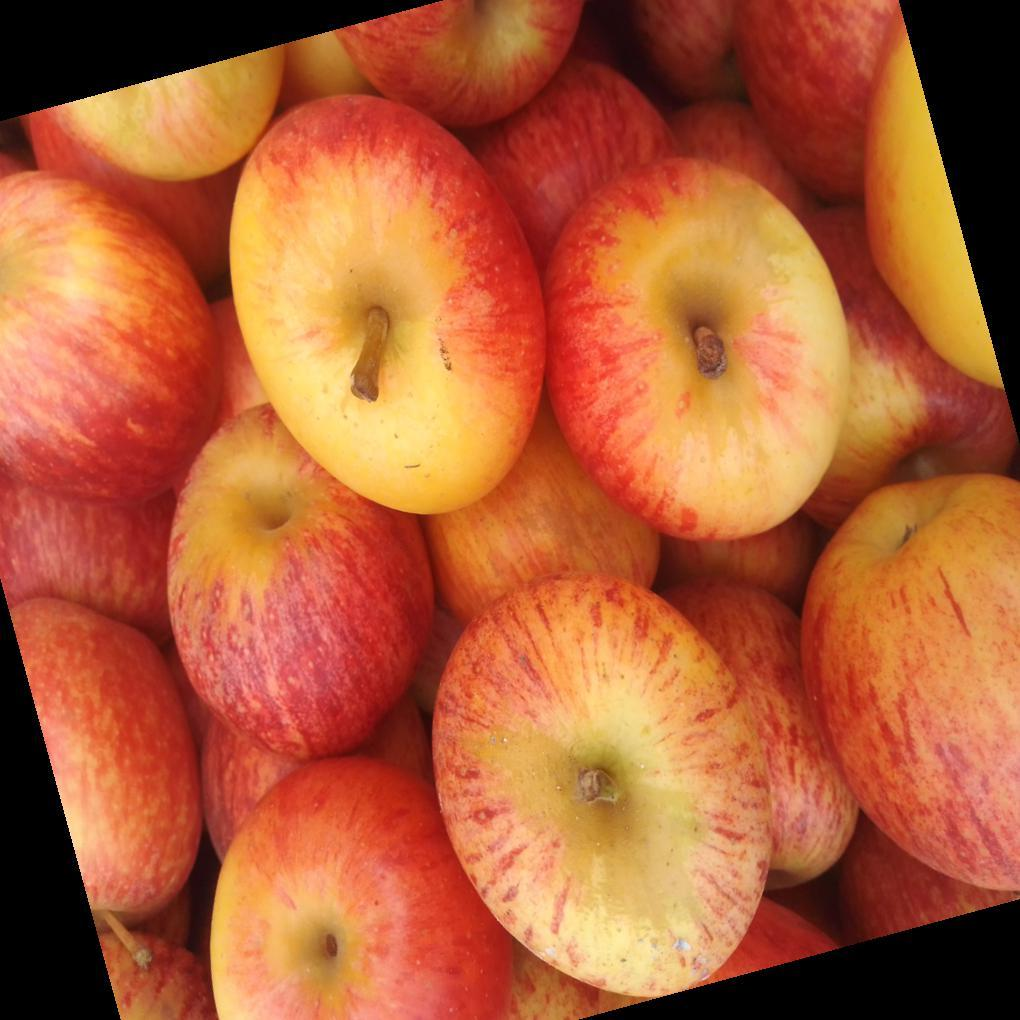FreshGuava: (26, 30, 1020, 1020)
